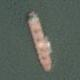ship: (0, 0, 22, 37)
